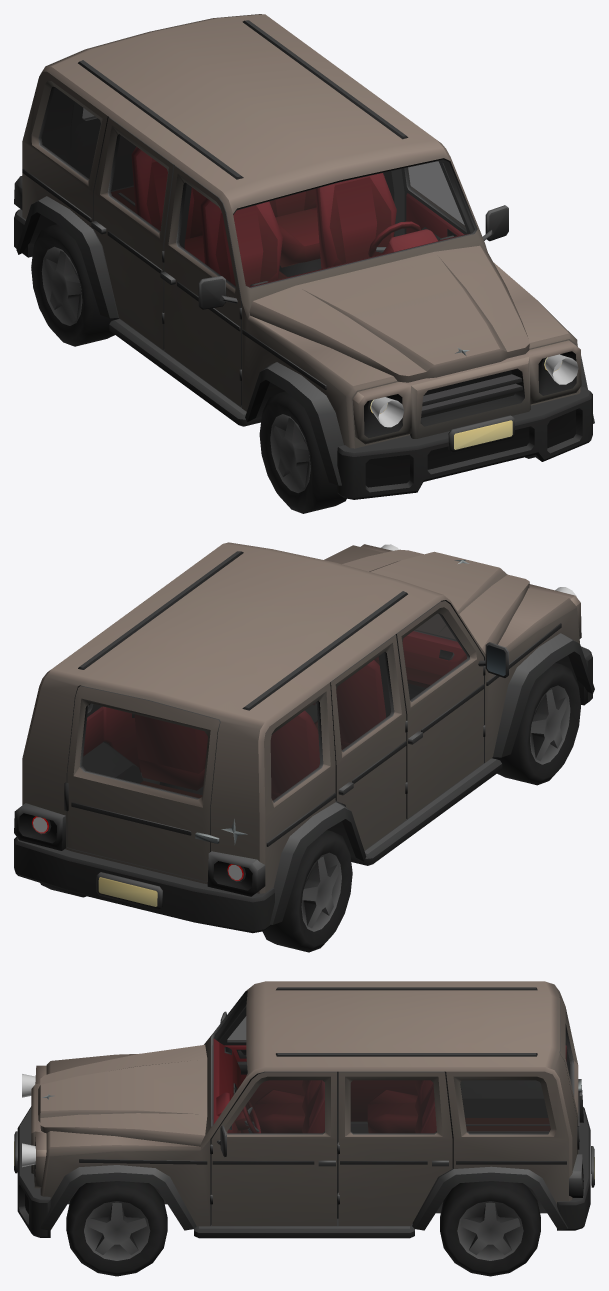
Rendered from TSP_SUV_01B.fbx.
3 renders of one model, top to bottom at view 1: azimuth 30°, elevation 25°; view 2: azimuth 150°, elevation 25°; view 3: azimuth 270°, elevation 25°, orthographic. The views are drawn at different scales.
Visible parts, largest first — view 1: TSP_SUV_01B_Body, TSP_SUV_01B_Door_F.R, TSP_SUV_01B_Door_R.R, TSP_SUV_01B_Wheel_F.R, TSP_SUV_01B_Wheel_R.R, TSP_SUV_01B_Door_F.L, TSP_SUV_01B_Trunk, TSP_SUV_01B_Lights; view 2: TSP_SUV_01B_Body, TSP_SUV_01B_Trunk, TSP_SUV_01B_Door_F.R, TSP_SUV_01B_Door_R.R, TSP_SUV_01B_Wheel_R.R, TSP_SUV_01B_Wheel_F.R, TSP_SUV_01B_Door_R.L, TSP_SUV_01B_Lights; view 3: TSP_SUV_01B_Body, TSP_SUV_01B_Door_F.L, TSP_SUV_01B_Door_R.L, TSP_SUV_01B_Wheel_F.L, TSP_SUV_01B_Wheel_R.L, TSP_SUV_01B_Door_F.R, TSP_SUV_01B_Door_R.R, TSP_SUV_01B_Trunk, TSP_SUV_01B_Lights, TSP_SUV_01B_Steering_Wheel.
Part boxes in pixels (x1,y1,x2,y2): TSP_SUV_01B_Body: (14,14,594,499); TSP_SUV_01B_Door_F.R: (160,165,241,406); TSP_SUV_01B_Door_R.R: (91,117,174,349); TSP_SUV_01B_Wheel_F.R: (259,391,346,513); TSP_SUV_01B_Wheel_R.R: (31,224,119,346); TSP_SUV_01B_Door_F.L: (401,161,508,241); TSP_SUV_01B_Trunk: (71,101,135,190); TSP_SUV_01B_Lights: (371,354,578,427); TSP_SUV_01B_Body: (14,542,594,933); TSP_SUV_01B_Trunk: (64,685,220,881); TSP_SUV_01B_Door_F.R: (395,601,508,819); TSP_SUV_01B_Door_R.R: (330,634,406,850); TSP_SUV_01B_Wheel_R.R: (262,830,352,952); TSP_SUV_01B_Wheel_F.R: (492,663,580,785); TSP_SUV_01B_Door_R.L: (103,707,140,772); TSP_SUV_01B_Lights: (33,544,576,879); TSP_SUV_01B_Body: (14,981,594,1238); TSP_SUV_01B_Door_F.L: (211,1071,336,1225); TSP_SUV_01B_Door_R.L: (338,1071,452,1225); TSP_SUV_01B_Wheel_F.L: (66,1181,167,1276); TSP_SUV_01B_Wheel_R.L: (440,1181,540,1276); TSP_SUV_01B_Door_F.R: (218,1006,304,1121); TSP_SUV_01B_Door_R.R: (351,1080,417,1121); TSP_SUV_01B_Trunk: (559,998,581,1154); TSP_SUV_01B_Lights: (22,1074,35,1167); TSP_SUV_01B_Steering_Wheel: (235,1101,260,1132).
Size of the model in its own units: 2.71 by 2.11 by 5.39.
